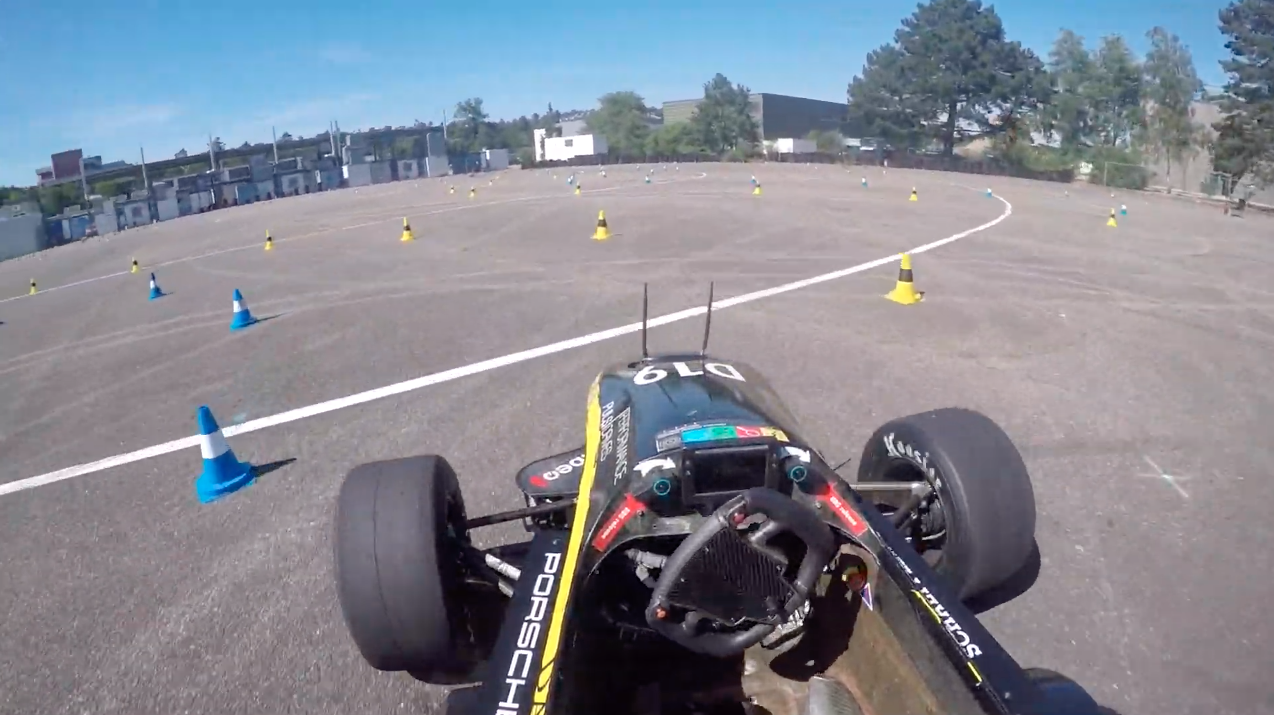lcone: (182, 402, 260, 507), (224, 285, 263, 332), (143, 269, 168, 301)
rcone: (885, 247, 929, 307), (589, 206, 616, 242), (397, 216, 418, 245)
